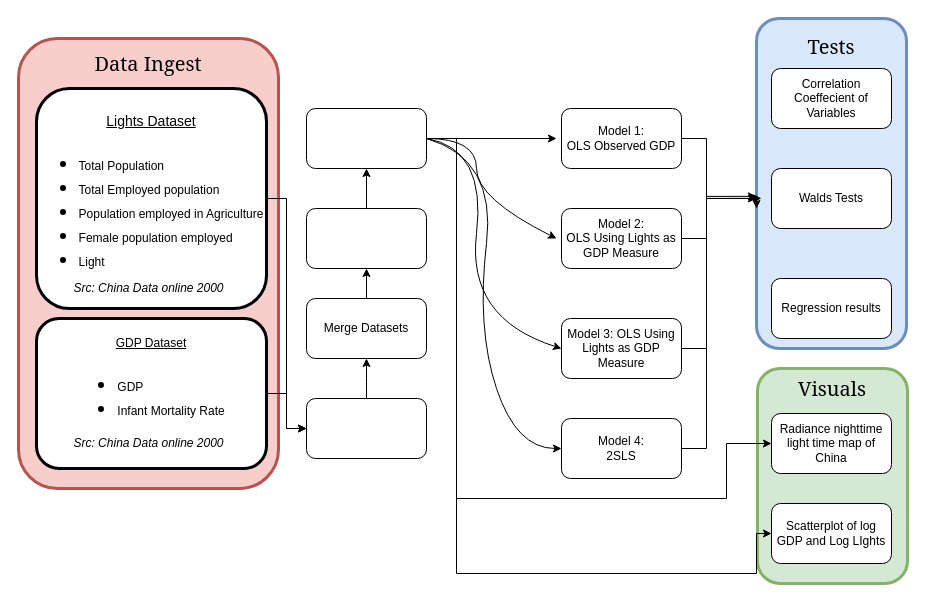
The diagram is 926 pixels wide and 602 high, and some of its shapes have lost their labels. The centre of each missing label's shape, as x and y in pixels:
"China Geographic Data" goes at (366,238).
"Clean Datasets" goes at (366,428).
"Create Synthetic GDP variable" goes at (366,138).
